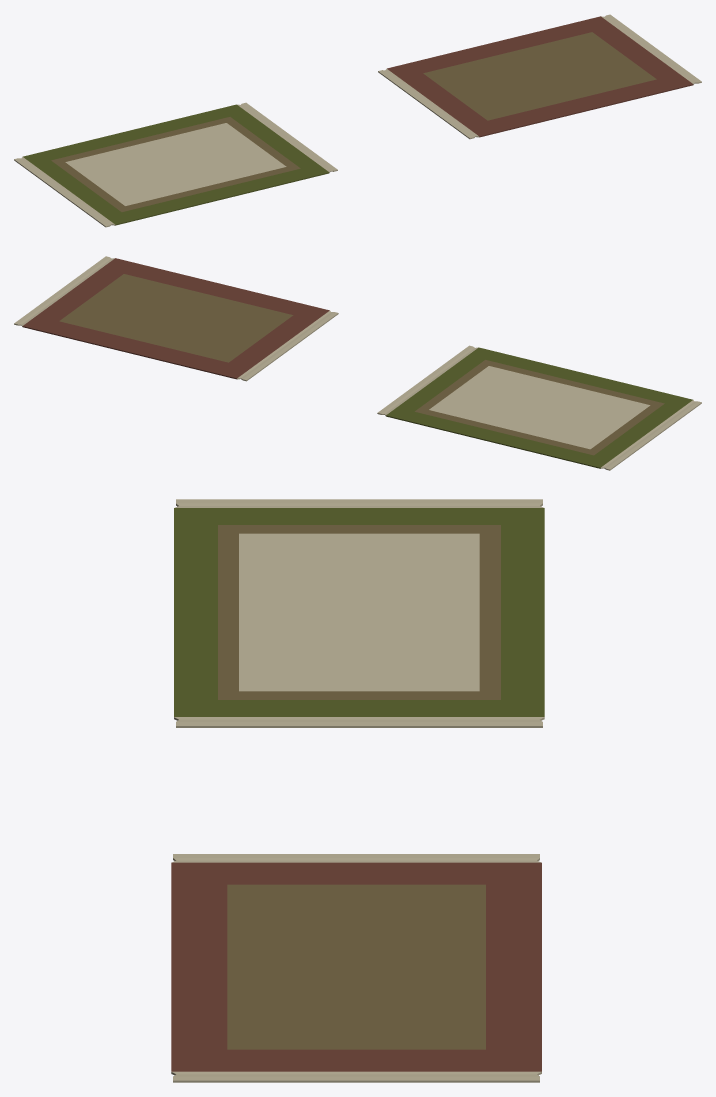
Rendered from carpet.glb.
3 views of the same model, one above another, from view 1: azimuth 30°, elevation 25°; view 2: azimuth 150°, elevation 25°; view 3: azimuth 270°, elevation 25° (orthographic). The views are drawn at different scales.
Visible parts, largest first — view 1: Carpet_Red, Carpet_Green; view 2: Carpet_Red, Carpet_Green; view 3: Carpet_Red, Carpet_Green.
Part boxes in pixels (<box>): Carpet_Red: <box>378,14,701,139</box>; Carpet_Green: <box>14,102,337,227</box>; Carpet_Red: <box>14,256,338,381</box>; Carpet_Green: <box>377,345,701,470</box>; Carpet_Red: <box>171,854,541,1082</box>; Carpet_Green: <box>174,499,544,727</box>.
Bounding box in the file's own units: 11.13 × 0.0196 × 3.02.
1 material, 1 textured.
